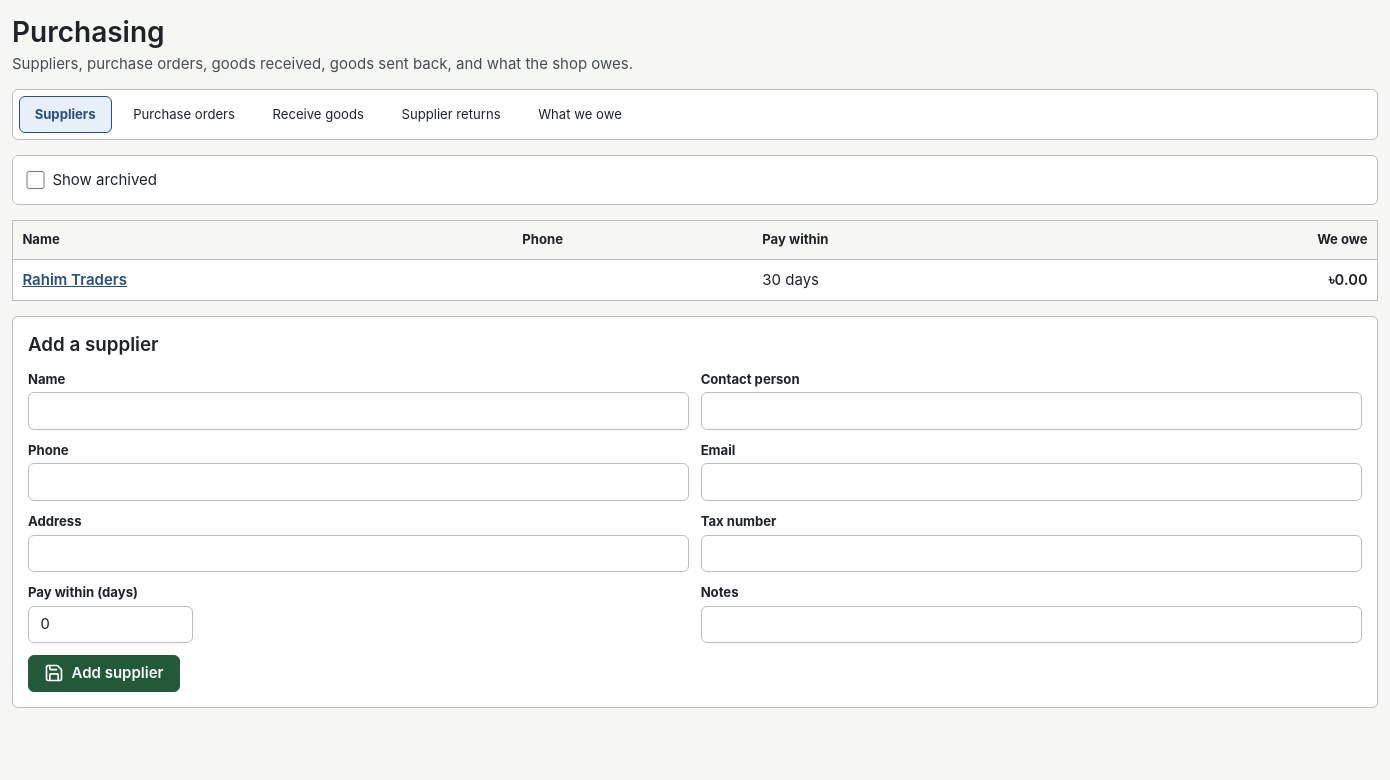
Test: PurchasingPage (fake bridge) › pur_04: goods sent back lower what the shop owes and are listed
The width and height of the screenshot is (1390, 780).
Click the tab "Supplier returns" at (451, 115), box top-left (386, 96), bottom-right (516, 134)
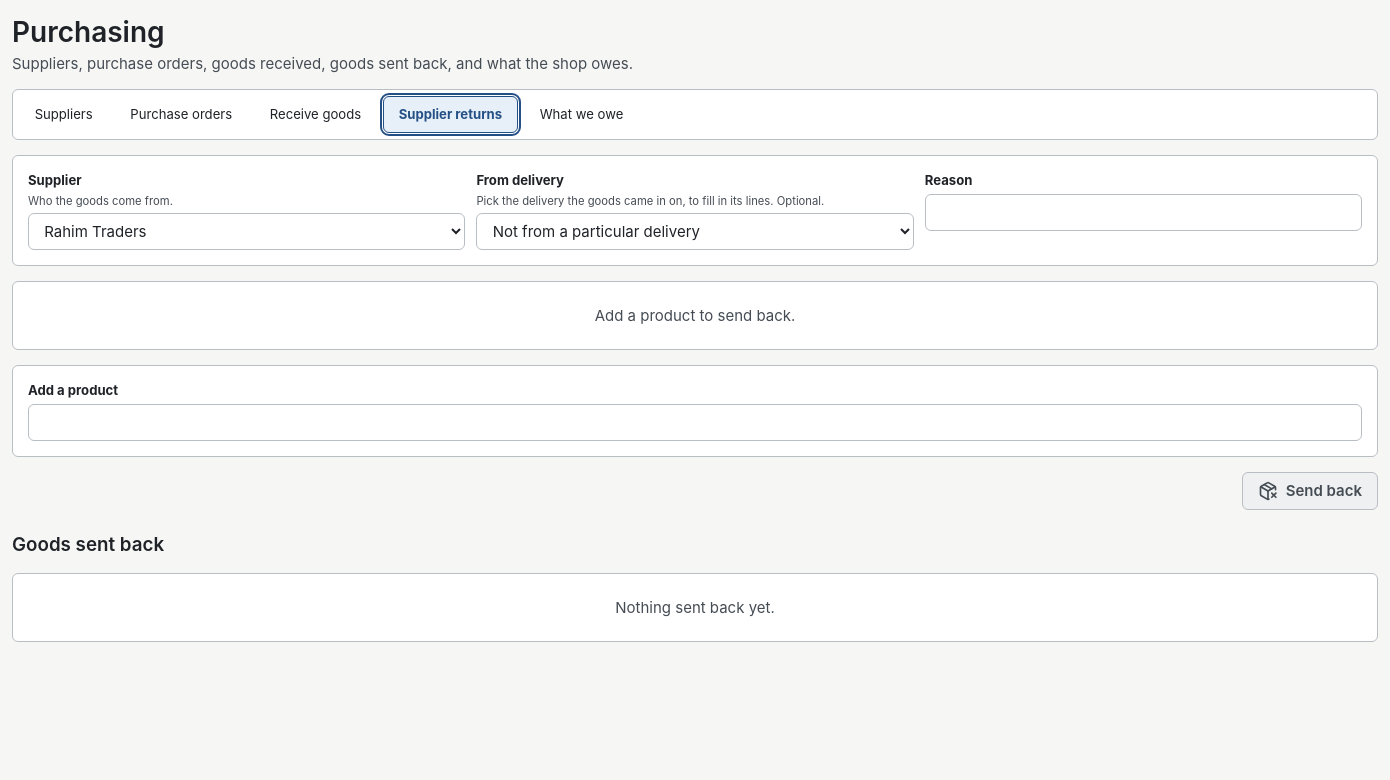
Now the text "Nothing sent back yet." is shown, box top-left (12, 573), bottom-right (1378, 642)
Type "milk" into the field labelled "Add a product" at (695, 422), box top-left (28, 404), bottom-right (1362, 441)
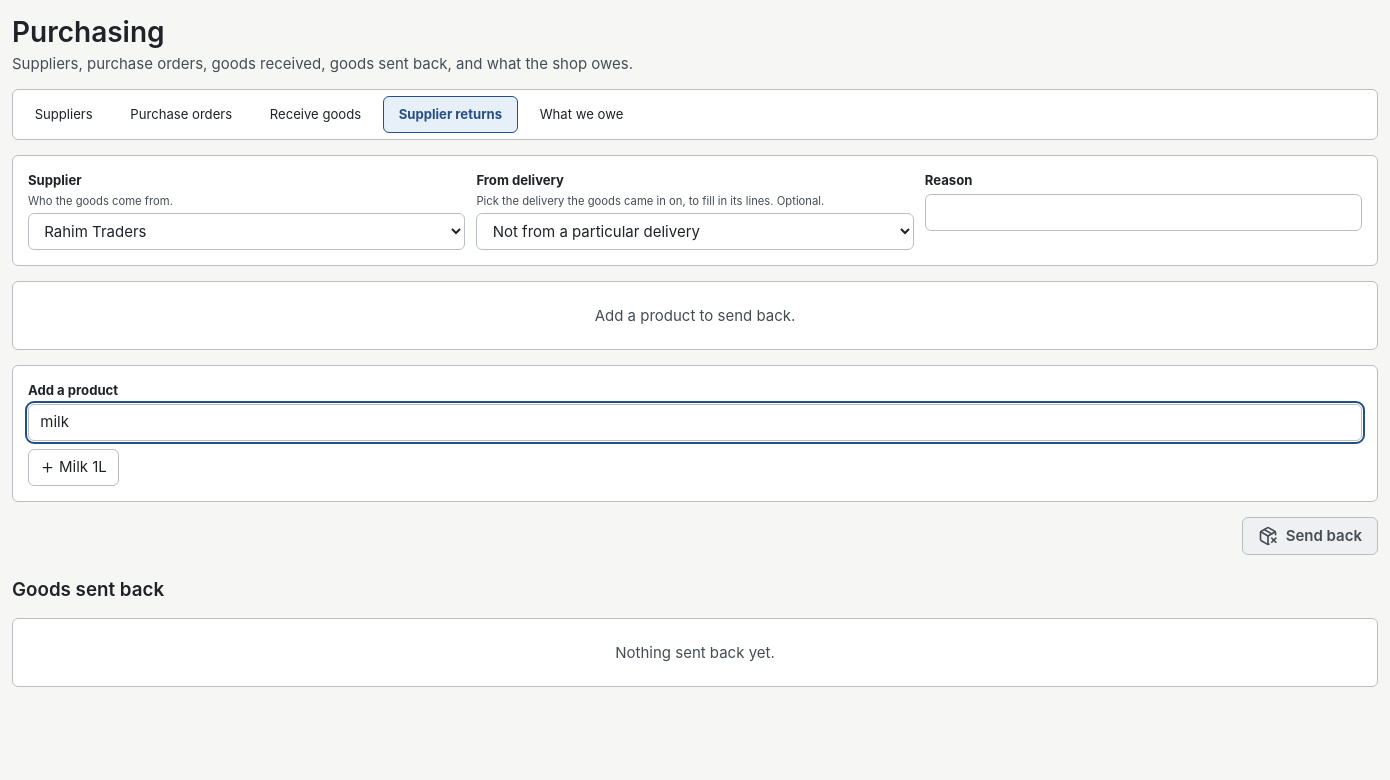
Click the button "Milk 1L" at (74, 467), box top-left (28, 449), bottom-right (119, 486)
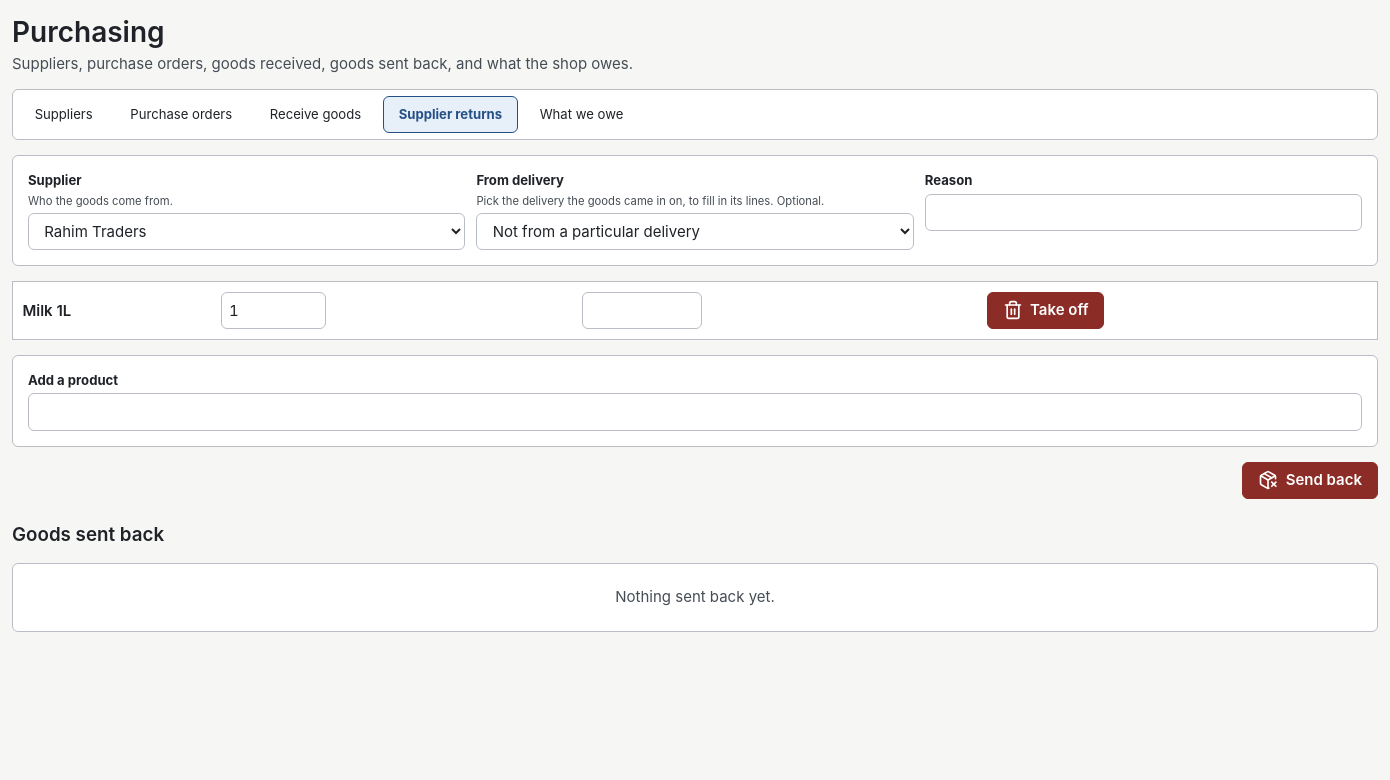
Replace the text in the field named "Sending back of Milk 1L" with "2" at (273, 310), box top-left (221, 292), bottom-right (326, 329)
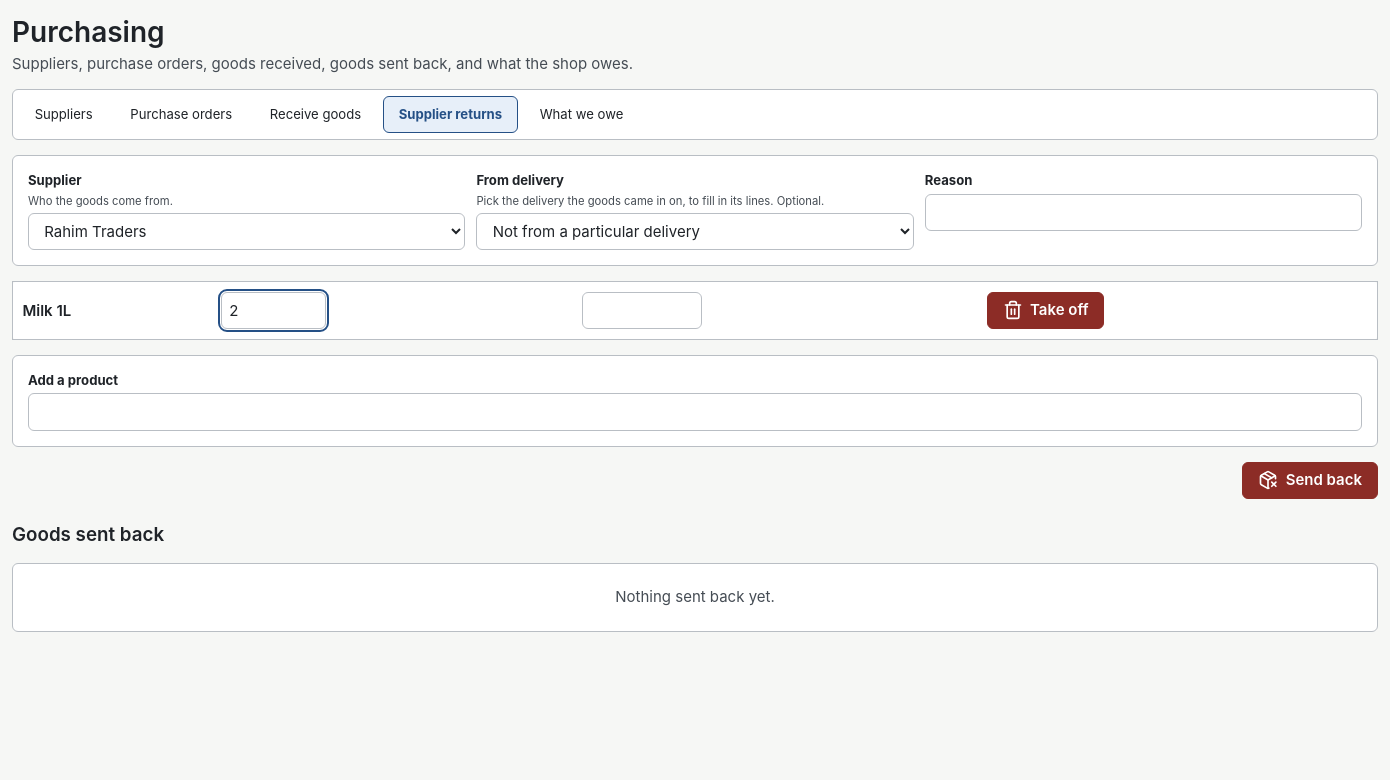
Type "Leaking" into the field labelled "Reason" at (1143, 212), box top-left (925, 194), bottom-right (1362, 231)
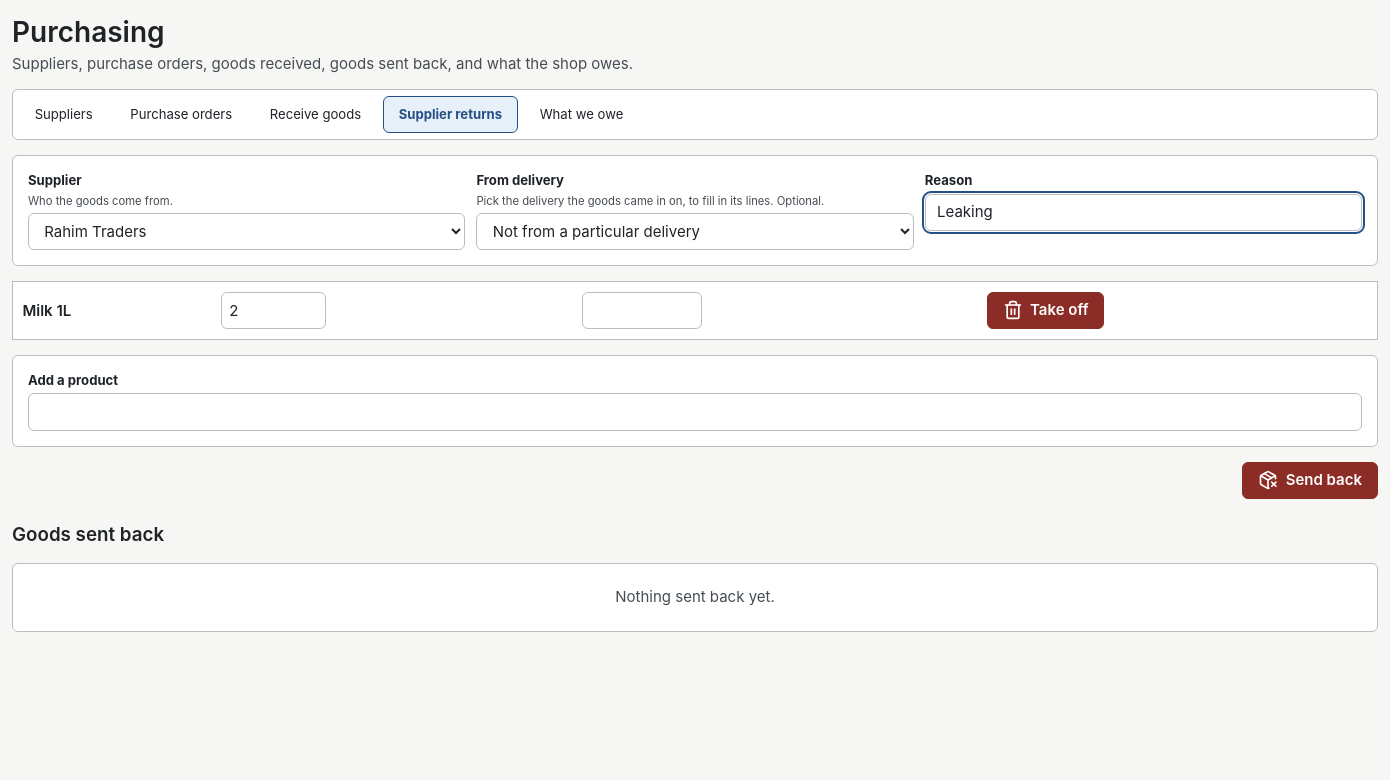
Click the button "Send back" at (1310, 480), box top-left (1242, 462), bottom-right (1378, 499)
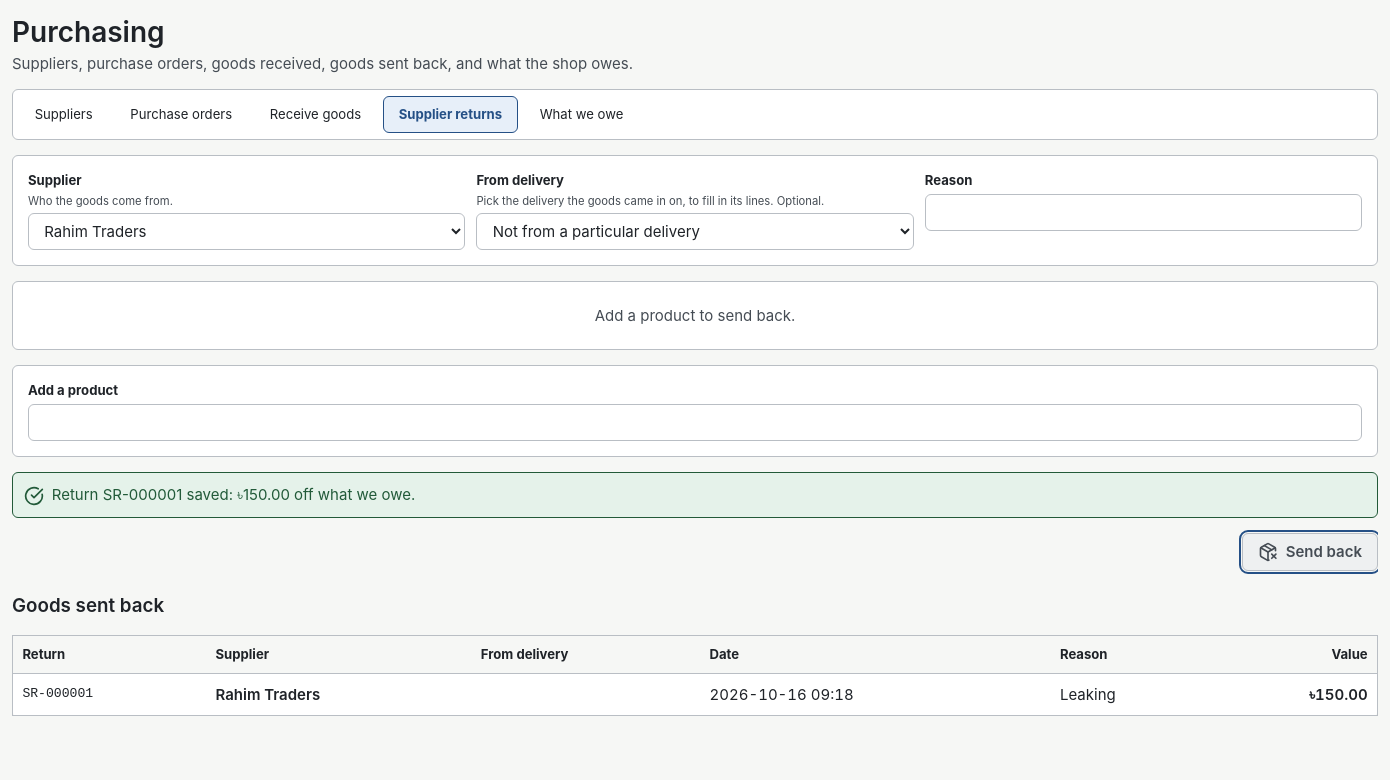
Now the text "Return SR-000001 saved: ৳150.00 off what we owe." is shown, box top-left (52, 484), bottom-right (415, 506)
Now the cell "Leaking" is shown, box top-left (1051, 674), bottom-right (1211, 715)
